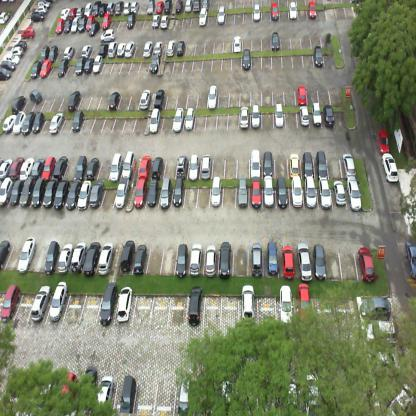car: (382, 382, 414, 415), (0, 284, 22, 324), (28, 288, 51, 324), (46, 290, 69, 326), (16, 236, 37, 275), (370, 351, 400, 378), (96, 288, 118, 324), (58, 372, 78, 410), (354, 240, 374, 277), (119, 374, 137, 415), (304, 370, 320, 416), (114, 289, 136, 322), (360, 295, 391, 318), (82, 362, 98, 406), (220, 377, 238, 415), (279, 282, 294, 327), (41, 239, 60, 273), (68, 240, 87, 274), (366, 320, 394, 343), (177, 374, 192, 415), (76, 176, 94, 210), (144, 177, 162, 211), (293, 243, 311, 277), (19, 172, 37, 206), (53, 241, 72, 273), (297, 282, 311, 325), (241, 282, 256, 322), (187, 292, 204, 327), (82, 240, 100, 273), (88, 174, 105, 208), (278, 244, 295, 278), (310, 242, 326, 278), (174, 243, 191, 276), (284, 374, 298, 414), (42, 178, 60, 209), (203, 241, 218, 278), (170, 176, 186, 210), (188, 242, 204, 276), (263, 243, 279, 277), (344, 176, 362, 206), (380, 153, 398, 183), (65, 176, 81, 209), (113, 177, 129, 210), (156, 178, 172, 211), (132, 240, 148, 273), (217, 242, 233, 275), (96, 374, 112, 407), (54, 178, 70, 211), (96, 244, 113, 274), (248, 240, 263, 274), (316, 177, 332, 208), (404, 238, 416, 279), (314, 148, 330, 178), (118, 242, 134, 272), (30, 178, 46, 208), (133, 177, 146, 212), (73, 154, 91, 179), (341, 149, 357, 177), (84, 153, 101, 179), (330, 179, 345, 208), (288, 180, 304, 207), (20, 110, 36, 137), (288, 147, 302, 177), (301, 148, 315, 178), (235, 179, 249, 209), (262, 178, 276, 208), (276, 179, 290, 209), (0, 176, 14, 206), (9, 154, 25, 180), (209, 180, 223, 209), (9, 179, 24, 206), (304, 178, 317, 209), (122, 155, 138, 180), (186, 152, 201, 178), (109, 155, 125, 179), (70, 110, 86, 134), (248, 150, 262, 177), (0, 239, 11, 273), (47, 112, 64, 134), (149, 154, 163, 180), (12, 111, 26, 137), (138, 155, 153, 179), (263, 147, 275, 177), (249, 179, 261, 209), (150, 106, 163, 133), (199, 152, 213, 177), (0, 155, 14, 180), (42, 154, 56, 179), (54, 154, 68, 179), (31, 110, 45, 135), (20, 157, 35, 180), (174, 153, 188, 177), (378, 126, 390, 154), (67, 89, 81, 112), (1, 115, 17, 135), (138, 87, 151, 111), (107, 90, 121, 112), (238, 105, 250, 130), (311, 102, 322, 128), (321, 104, 334, 126), (242, 47, 253, 73), (207, 84, 218, 110), (11, 94, 25, 114), (38, 58, 52, 78), (274, 105, 286, 128), (298, 105, 310, 128), (184, 106, 194, 133), (287, 0, 299, 22), (56, 58, 68, 80), (174, 108, 184, 134), (32, 157, 45, 177), (29, 59, 42, 79), (74, 56, 86, 77), (252, 105, 262, 130), (154, 86, 165, 108), (99, 27, 116, 41), (29, 86, 42, 104), (313, 45, 323, 68), (270, 29, 280, 51), (92, 54, 103, 74), (150, 53, 160, 75), (106, 40, 118, 58), (144, 0, 156, 18), (20, 26, 35, 40), (77, 12, 88, 31), (297, 81, 306, 104), (82, 58, 94, 75), (3, 53, 21, 64), (165, 38, 176, 56), (30, 12, 46, 24), (89, 20, 101, 36), (40, 42, 50, 61), (124, 40, 135, 57), (49, 42, 60, 59), (113, 0, 124, 17), (80, 43, 94, 56), (271, 0, 280, 20), (252, 2, 262, 20), (232, 32, 241, 52), (142, 39, 152, 57), (126, 11, 135, 31), (198, 8, 207, 28), (217, 4, 225, 26), (1, 60, 17, 71), (150, 14, 161, 30), (63, 17, 73, 34), (308, 0, 316, 21), (64, 44, 76, 58), (38, 0, 53, 11), (151, 41, 162, 56), (101, 13, 112, 28), (163, 0, 174, 15), (177, 39, 186, 57), (71, 14, 80, 32), (116, 41, 126, 57), (54, 18, 64, 34), (10, 46, 24, 57), (0, 68, 12, 80), (99, 0, 108, 16), (83, 1, 94, 14), (191, 0, 201, 14), (183, 0, 192, 15), (129, 0, 140, 12), (98, 42, 108, 55), (92, 0, 100, 16), (160, 13, 168, 29), (175, 0, 184, 14), (15, 39, 27, 49), (61, 5, 71, 17), (86, 15, 95, 28), (69, 4, 77, 18), (107, 0, 115, 14), (155, 0, 163, 14), (123, 0, 130, 15), (36, 5, 47, 13), (202, 0, 208, 12), (76, 6, 83, 16)
